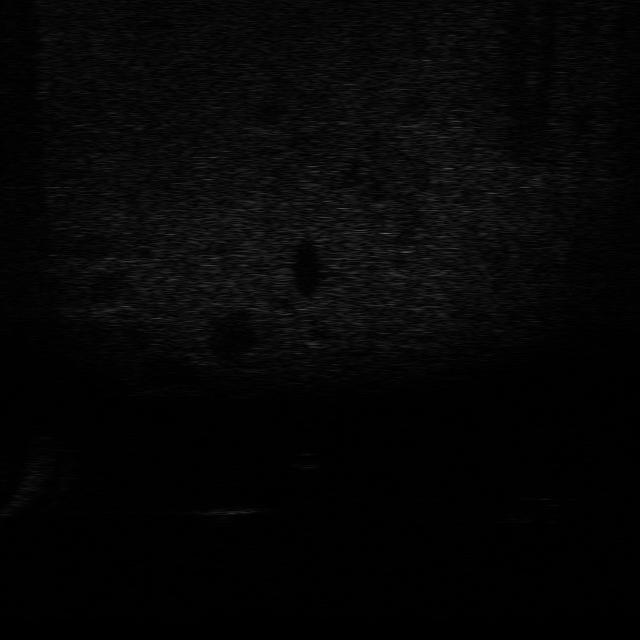ball: (278, 445, 330, 476)
square cage: (197, 498, 275, 526)
tyre: (508, 492, 568, 527)
